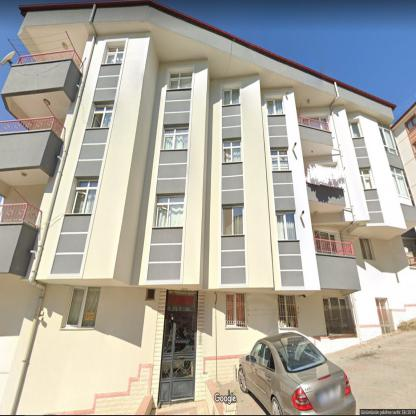door: (158, 313, 197, 405)
window: (63, 286, 101, 328), (69, 179, 98, 214), (154, 196, 184, 228), (323, 297, 348, 328), (225, 292, 246, 328), (389, 165, 410, 199), (378, 122, 398, 155), (166, 290, 197, 311), (162, 126, 188, 151), (223, 206, 244, 236), (276, 212, 297, 241), (277, 295, 295, 328), (90, 104, 113, 128), (314, 230, 337, 253), (376, 298, 390, 334), (270, 148, 290, 171), (222, 138, 241, 162), (168, 72, 191, 90), (302, 116, 330, 130), (359, 167, 376, 189), (104, 46, 124, 64), (222, 86, 240, 106), (266, 97, 285, 115), (348, 118, 363, 138), (360, 238, 372, 260), (405, 115, 415, 132), (146, 289, 156, 300)
